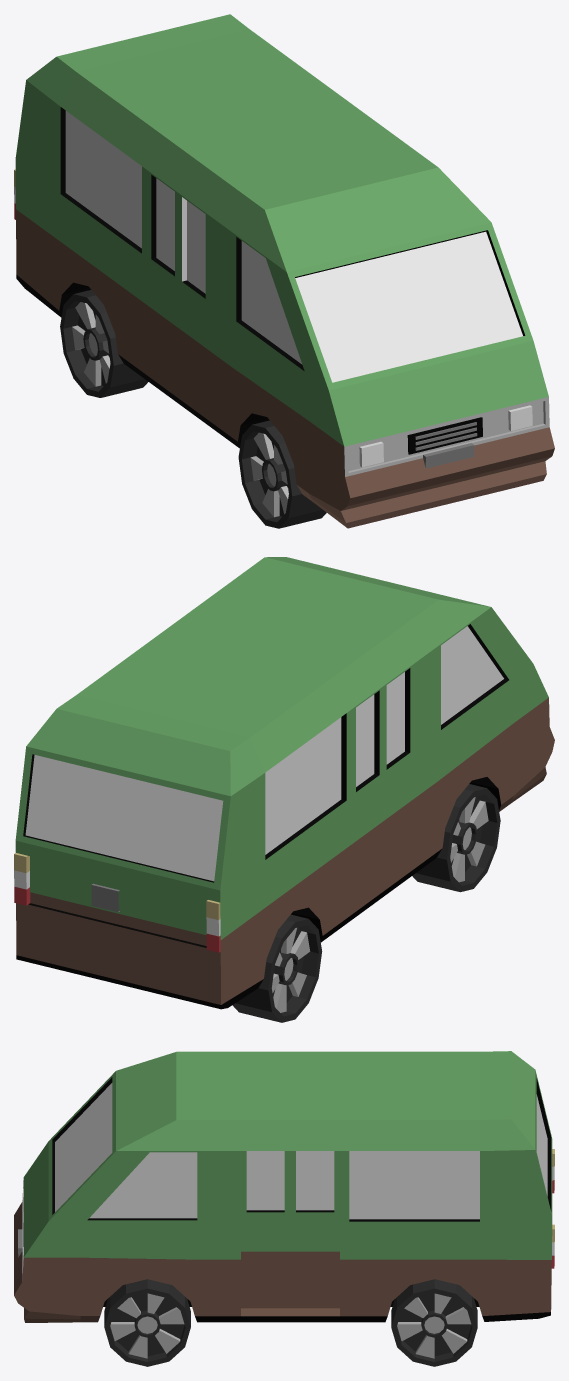
Rendered from sek raono plat.fbx.
3 renders of one model, top to bottom at view 1: azimuth 30°, elevation 25°; view 2: azimuth 150°, elevation 25°; view 3: azimuth 270°, elevation 25°, orthographic. The views are drawn at different scales.
Parts seen in each view (by area): view 1: JEEP-Body, JEEP- Wheel.Ft.R, JEEP- Wheel.Bk.R; view 2: JEEP-Body, JEEP- Wheel.Bk.R, JEEP- Wheel.Ft.R; view 3: JEEP-Body, JEEP- Wheel.Bk.L, JEEP- Wheel.Ft.L.
Boxes of the visible parts, x1,y1,x2,y2 form: JEEP-Body: [14, 14, 554, 528]; JEEP- Wheel.Ft.R: [238, 420, 326, 528]; JEEP- Wheel.Bk.R: [60, 290, 148, 397]; JEEP-Body: [14, 557, 554, 1009]; JEEP- Wheel.Bk.R: [232, 914, 322, 1022]; JEEP- Wheel.Ft.R: [412, 784, 500, 892]; JEEP-Body: [14, 1051, 554, 1322]; JEEP- Wheel.Bk.L: [391, 1279, 477, 1366]; JEEP- Wheel.Ft.L: [104, 1279, 190, 1366].
Bounding box in the file's own units: 343 × 469 × 955.
